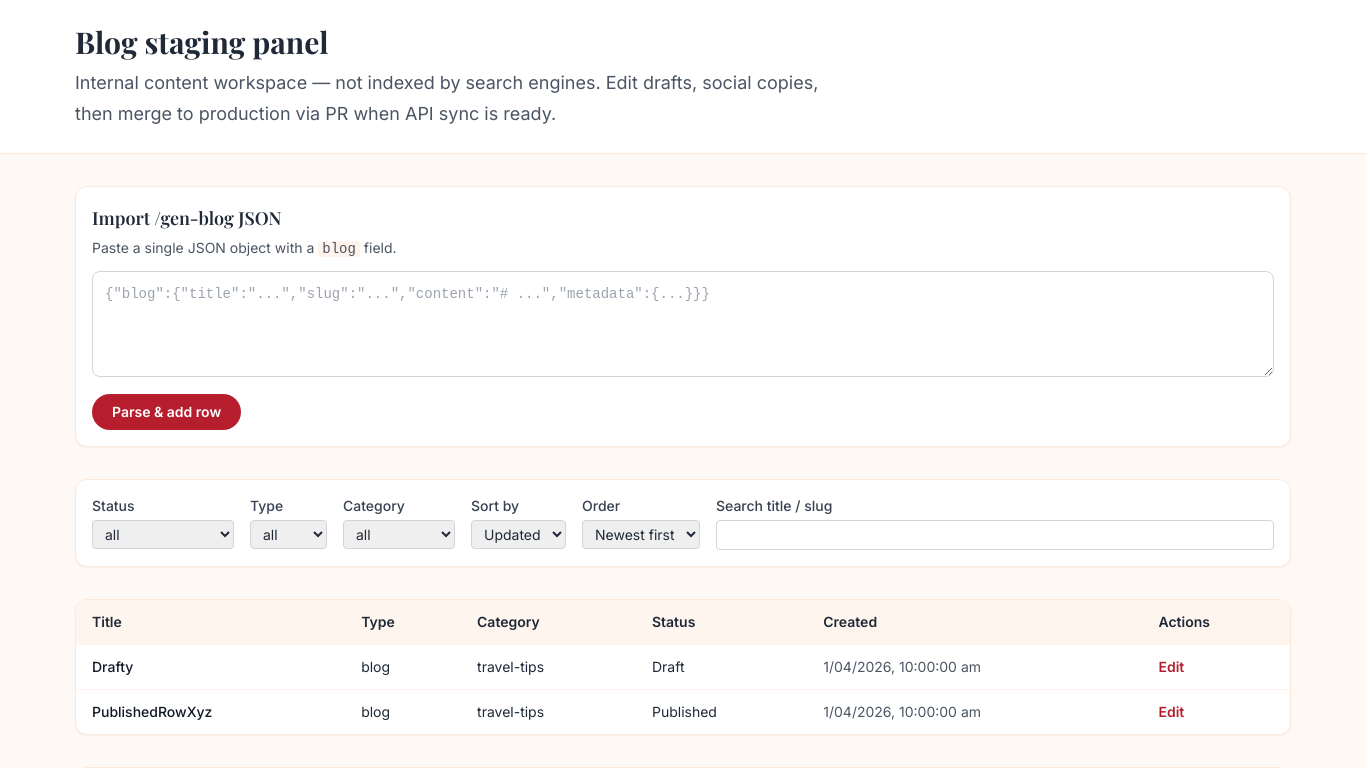
StagingPanel › shows only published when status filter applied
Select "published" in the dropdown labelled "Status": (163, 535) [92,520,234,549]
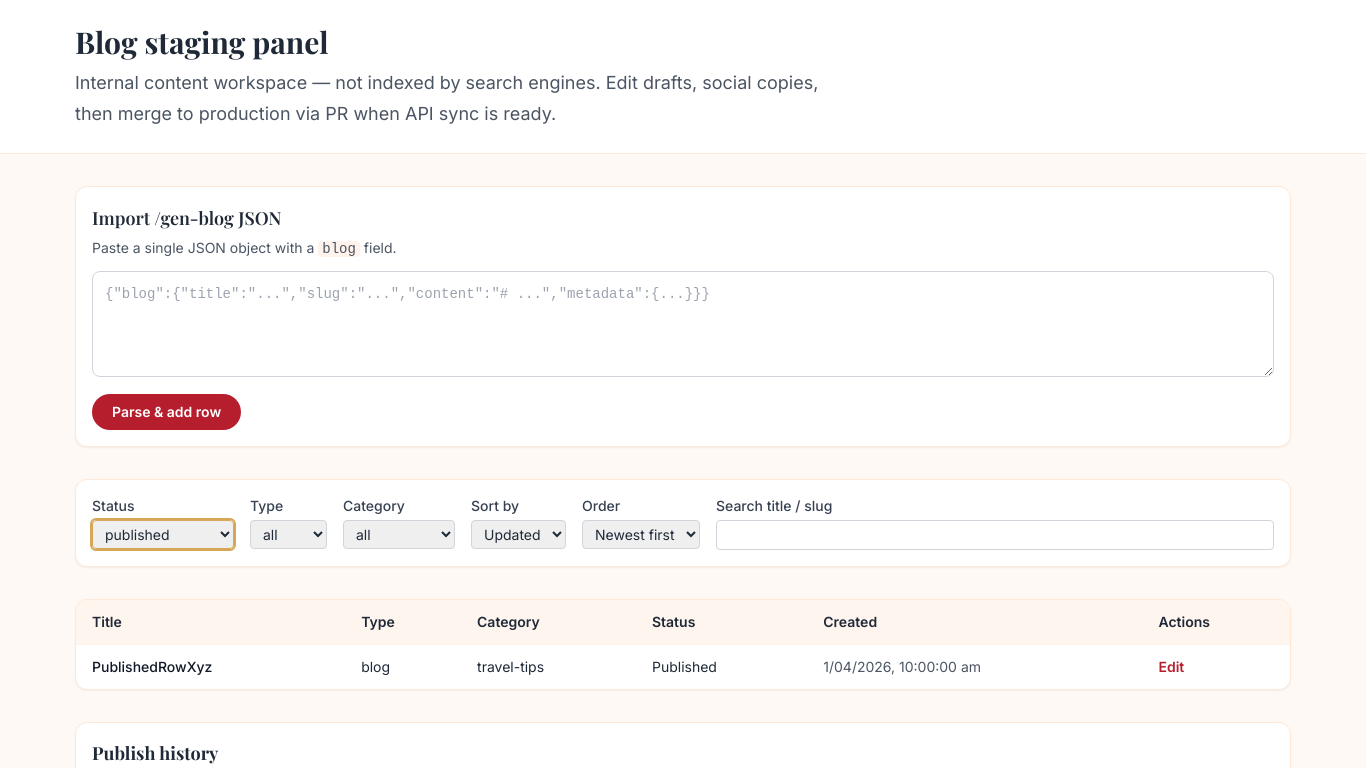
Expected: the text "PublishedRowXyz" is shown, [76,645,345,689]
Result: the text "Drafty" is gone
